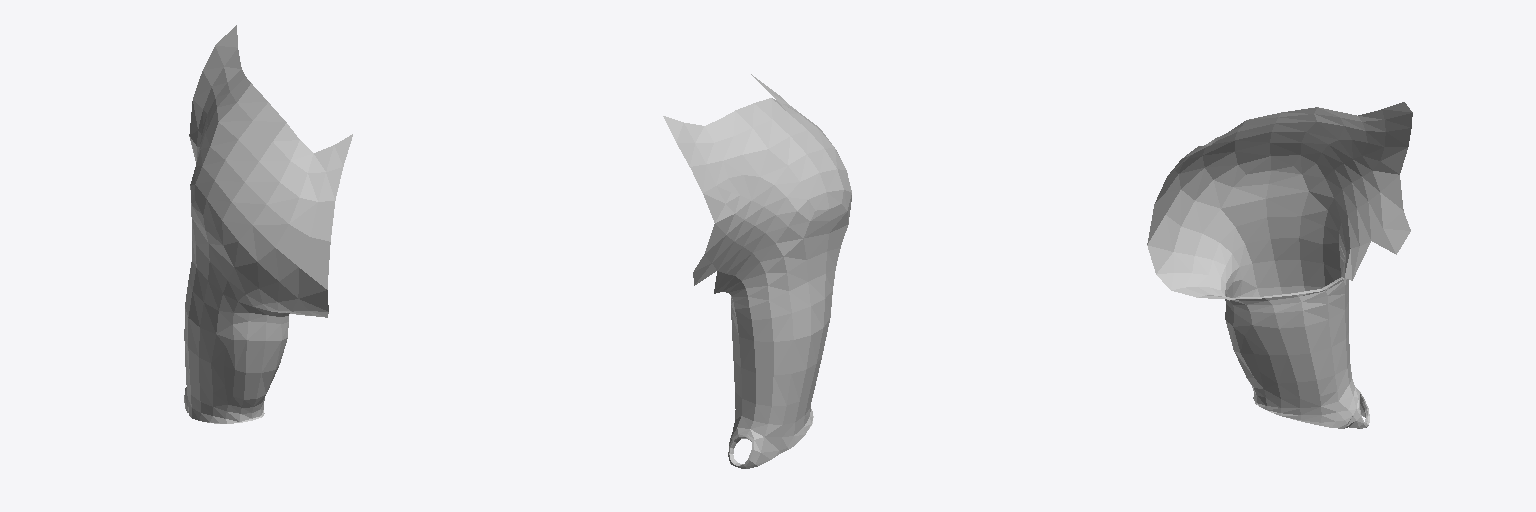
The model's file is cuisse_avant_droit.obj.
The picture shows the model from 3 angles: view 1: azimuth 30°, elevation 25°; view 2: azimuth 150°, elevation 25°; view 3: azimuth 270°, elevation 25°; orthographic projection.
Parts seen in each view (by area): view 1: Cube.003_Cube.002; view 2: Cube.003_Cube.002; view 3: Cube.003_Cube.002.
Part boxes in pixels (x1,y1,x2,y2): Cube.003_Cube.002: (184, 25, 352, 423); Cube.003_Cube.002: (663, 74, 851, 468); Cube.003_Cube.002: (1147, 102, 1412, 428).
Bounding box in the file's own units: 0.6821 × 2 × 1.37.